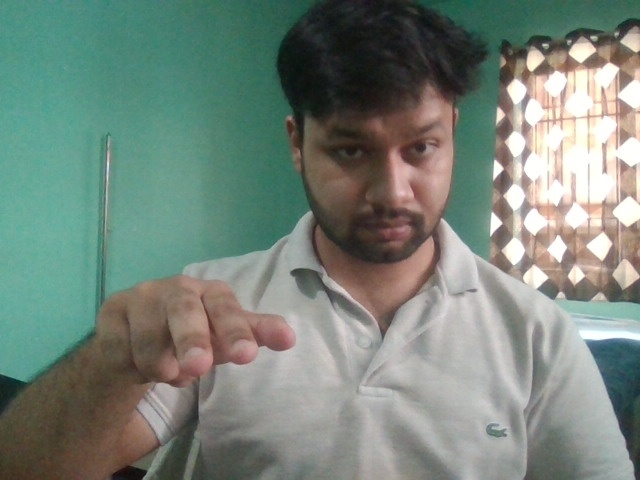No: (93, 255, 299, 419)
